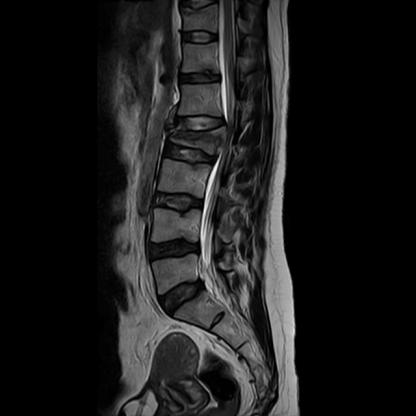Annular Tearrotation: (157, 281, 211, 314)
Fracturerotation: (161, 111, 233, 166)
